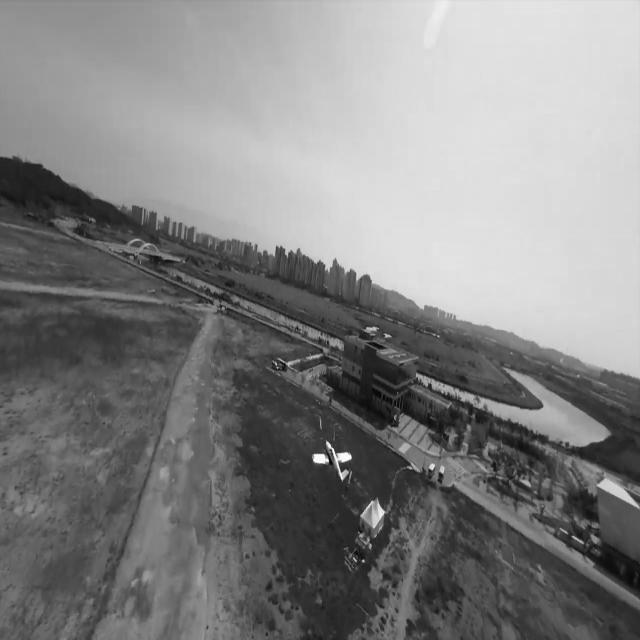iha: (303, 440, 348, 482)
